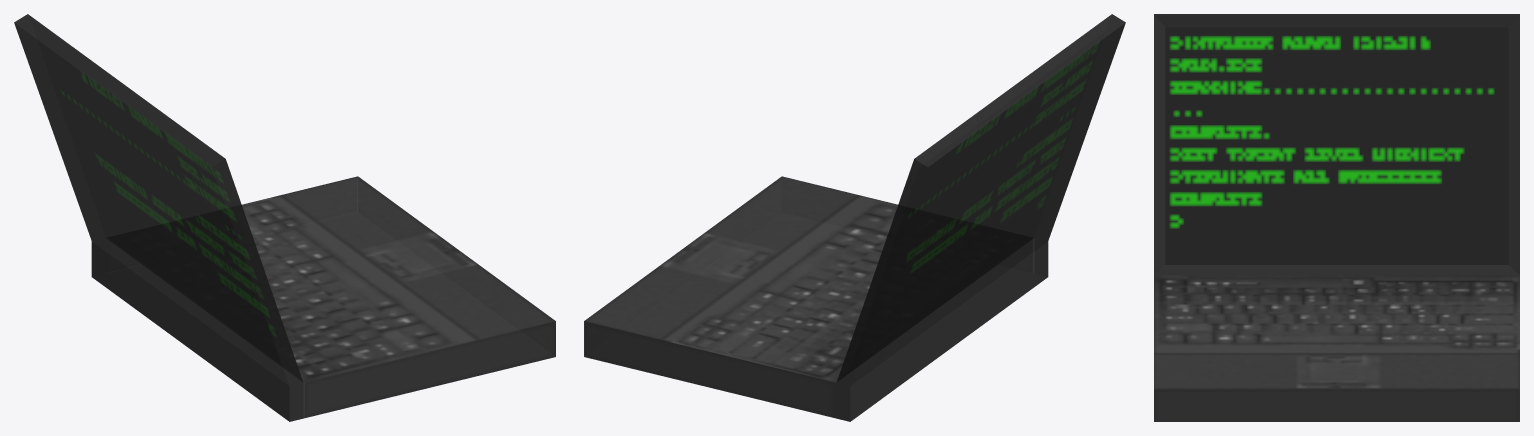
Rendered from Laptop_used.glb.
3 renders of one model, left to right at view 1: azimuth 30°, elevation 25°; view 2: azimuth 150°, elevation 25°; view 3: azimuth 270°, elevation 25°, orthographic. The views are drawn at different scales.
Visible parts, largest first — view 1: Cube; view 2: Cube; view 3: Cube.
Boxes of the visible parts, box(x1,y1,x2,y2) form: Cube: box(14, 14, 555, 421); Cube: box(584, 14, 1125, 421); Cube: box(1154, 14, 1519, 421).
Bounding box in the file's own units: 2.58 × 2 × 2.57.
1 material, 1 textured.
